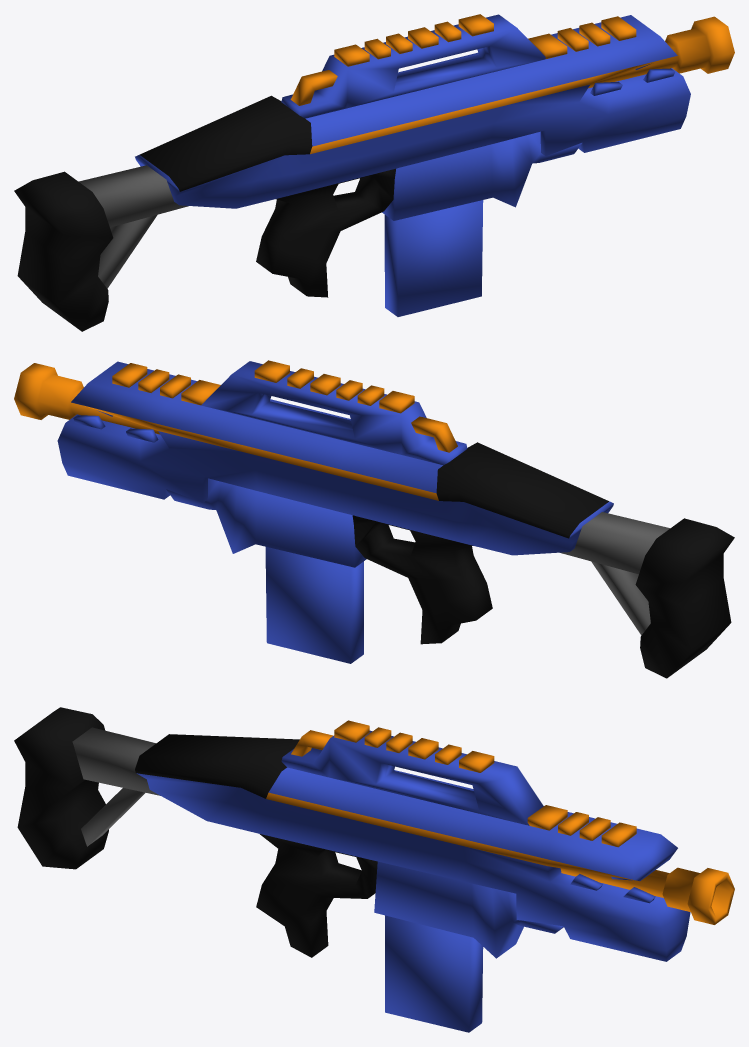
Rendered from Rifle.fbx.
3 renders of one model, top to bottom at view 1: azimuth 30°, elevation 25°; view 2: azimuth 150°, elevation 25°; view 3: azimuth 330°, elevation 25°, orthographic.
Parts seen in each view (by area): view 1: Cube.009; view 2: Cube.009; view 3: Cube.009.
Part boxes in pixels (x1,y1,x2,y2): Cube.009: [14, 14, 734, 331]; Cube.009: [14, 360, 734, 678]; Cube.009: [14, 707, 734, 1032].
Bounding box in the file's own units: 370 × 139 × 40.93.
